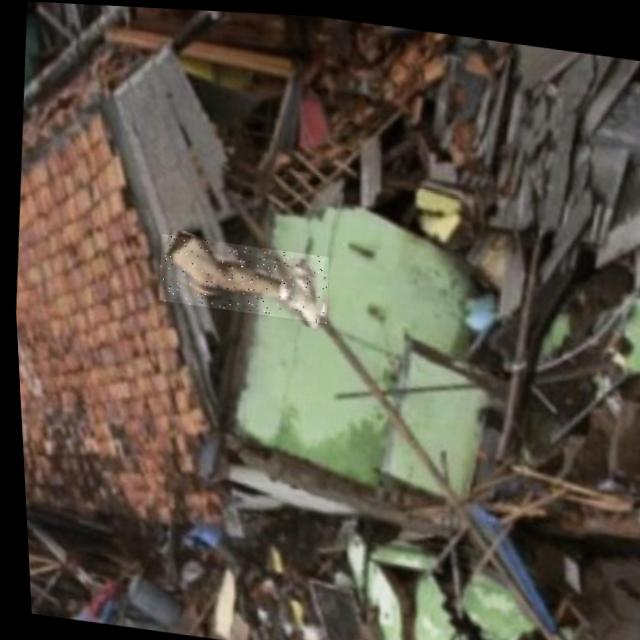Person in Rubble: (153, 231, 328, 319)
